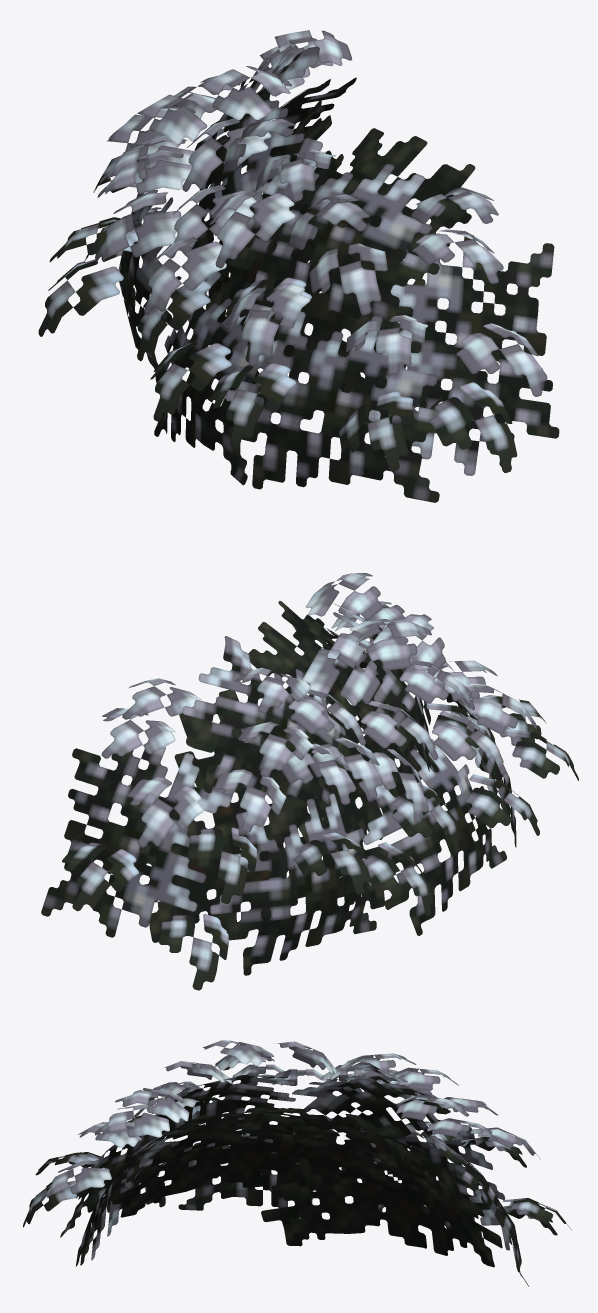
Rendered from EnvFldMD_Grass_M_A_Snow.FBX.
3 views of the same model, one above another, from view 1: azimuth 30°, elevation 25°; view 2: azimuth 150°, elevation 25°; view 3: azimuth 270°, elevation 25° (orthographic). The views are drawn at different scales.
Parts seen in each view (by area): view 1: EnvFldMD_Grass_M_A_Snow; view 2: EnvFldMD_Grass_M_A_Snow; view 3: EnvFldMD_Grass_M_A_Snow.
Part boxes in pixels (left/top/right/bottom): EnvFldMD_Grass_M_A_Snow: left=38, top=30, right=559, bottom=502; EnvFldMD_Grass_M_A_Snow: left=41, top=573, right=578, bottom=990; EnvFldMD_Grass_M_A_Snow: left=23, top=1040, right=571, bottom=1286.
Size of the model in its own units: 201 by 173 by 340.
Materials: 1 (1 with a texture image).
